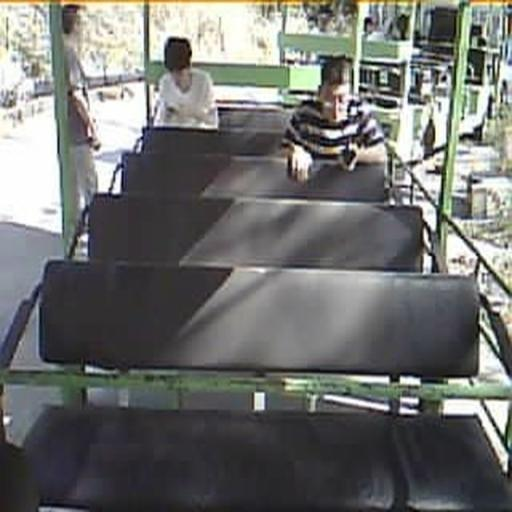persona: (280, 53, 388, 184), (152, 35, 220, 130)
